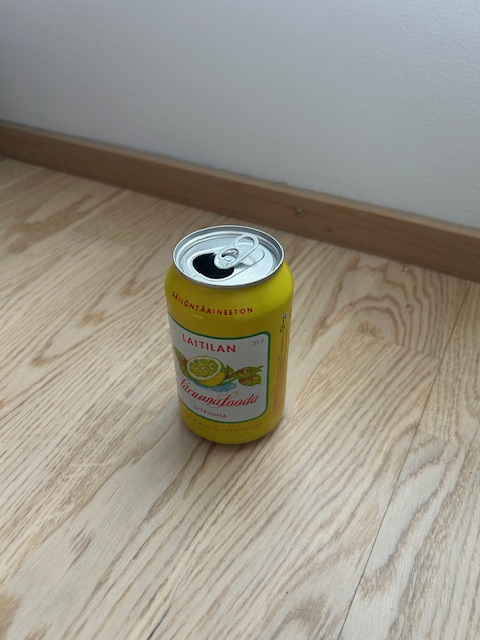Pantburk: (164, 223, 294, 446)
